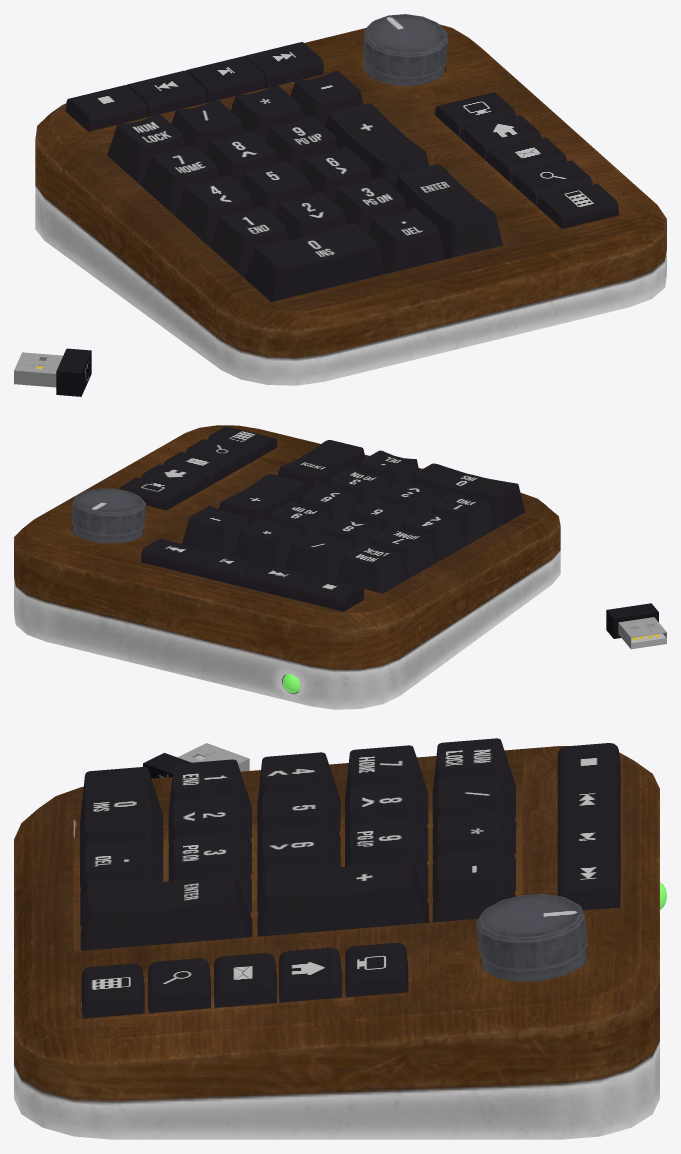
The model's file is keypad.bake.gltf.
3 renders of one model, top to bottom at view 1: azimuth 30°, elevation 25°; view 2: azimuth 150°, elevation 25°; view 3: azimuth 270°, elevation 25°, orthographic. The views are drawn at different scales.
Visible parts, largest first — view 1: body, key-0, key-enter, knob-volume, key-plus, key-colon, key-4, key-1, key-7, key-num, usb, key-stop (+17 smaller); view 2: body, knob-volume, key-0, key-num, key-enter, key-plus, key-asterisk, key-minus, key-slash, usb, key-1, key-4 (+17 smaller); view 3: body, key-plus, key-enter, knob-volume, key-0, key-minus, key-3, key-9, key-colon, key-slash, key-8, key-2 (+17 smaller).
Boxes of the visible parts, box(x1,y1,x2,y2) form: body: box(35, 24, 666, 385); key-0: box(244, 223, 384, 301); key-enter: box(394, 164, 502, 259); knob-volume: box(363, 14, 447, 86); key-plus: box(325, 103, 429, 187); key-colon: box(367, 208, 444, 274); key-4: box(175, 175, 253, 246); key-1: box(210, 206, 288, 277); key-7: box(141, 145, 219, 215); key-num: box(107, 114, 185, 185); usb: box(14, 348, 91, 396); key-stop: box(66, 85, 147, 131); body: box(14, 425, 560, 709); knob-volume: box(71, 488, 145, 543); key-0: box(411, 463, 524, 529); key-num: box(336, 543, 405, 593); key-enter: box(277, 440, 365, 491); key-plus: box(219, 474, 306, 524); key-asterisk: box(233, 518, 299, 568); key-minus: box(182, 506, 248, 556); key-slash: box(285, 531, 351, 581); usb: box(606, 603, 666, 649); key-1: box(430, 492, 494, 546); key-4: box(400, 509, 465, 562); body: box(14, 746, 659, 1139); key-plus: box(257, 858, 429, 936); key-enter: box(80, 873, 252, 950); knob-volume: box(476, 894, 587, 981); key-0: box(80, 767, 163, 887); key-minus: box(432, 849, 515, 922); key-3: box(169, 833, 251, 913); key-9: box(345, 819, 428, 898); key-colon: box(80, 840, 161, 926); key-slash: box(432, 775, 515, 860); key-8: box(345, 782, 428, 866); key-2: box(168, 796, 251, 880).
Bounding box in the file's own units: 0.1993 × 0.0441 × 0.145.
2 materials, 2 textured.
